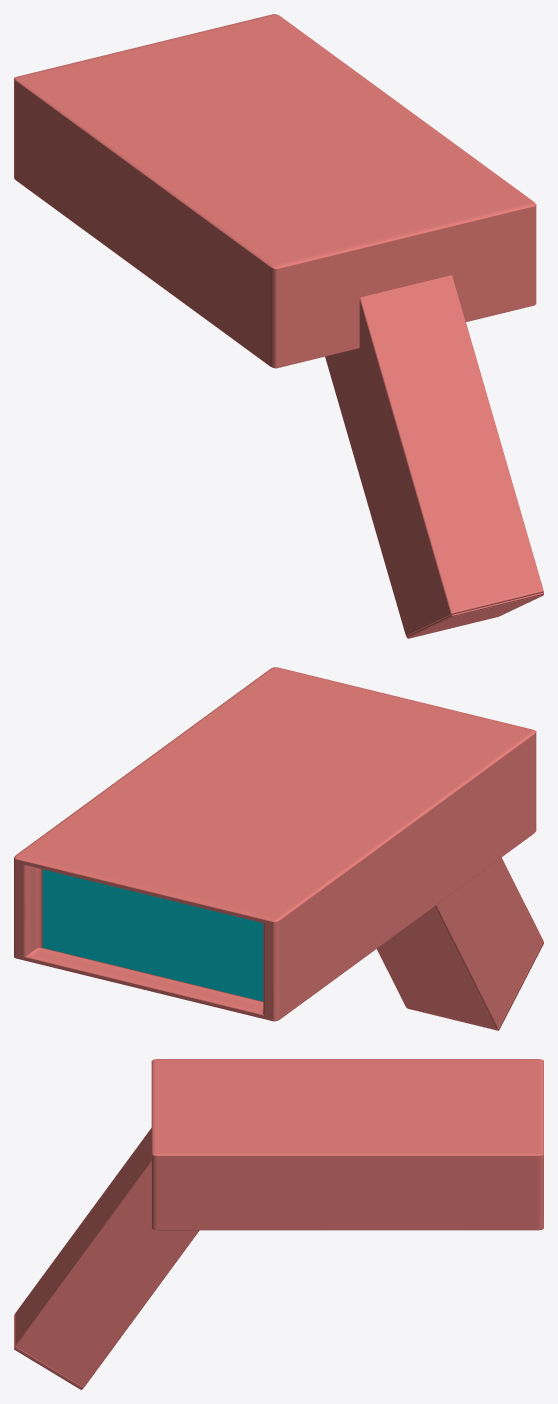
Rendered from Scanner_03.fbx.
3 views of the same model, one above another, from view 1: azimuth 30°, elevation 25°; view 2: azimuth 150°, elevation 25°; view 3: azimuth 270°, elevation 25° (orthographic). The views are drawn at different scales.
Visible parts, largest first — view 1: Cube; view 2: Cube; view 3: Cube.
Part boxes in pixels (x1=…): Cube: x1=14, y1=14, x2=543, y2=638; Cube: x1=14, y1=667, x2=543, y2=1030; Cube: x1=14, y1=1059, x2=543, y2=1389.
Bounding box in the file's own units: 47.59 × 61.22 × 110.
